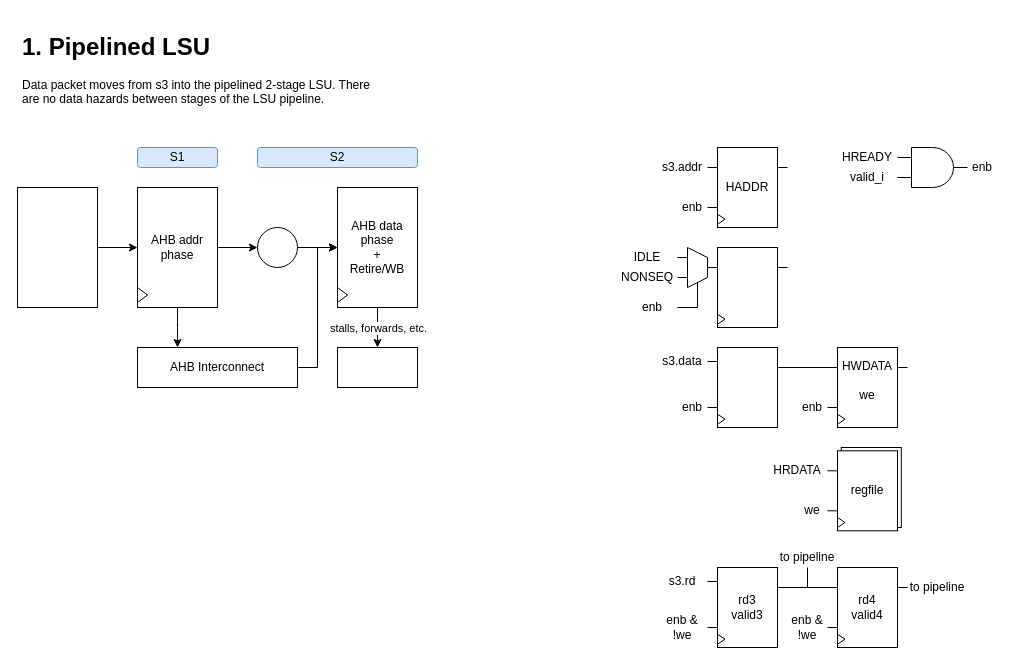
The diagram is 1015 pixels wide and 665 high, and some of its shapes have lost their labels. Here are the shapes that lost their labels. From the top down, the centre of each, then its label:
At (x=57, y=247): "s3 comb".
At (x=277, y=247): "wait cycles".
At (x=747, y=287): "HTRANS".
At (x=377, y=367): "Pipeline ctl".
At (x=747, y=387): "skid we = enb & s3.we".
